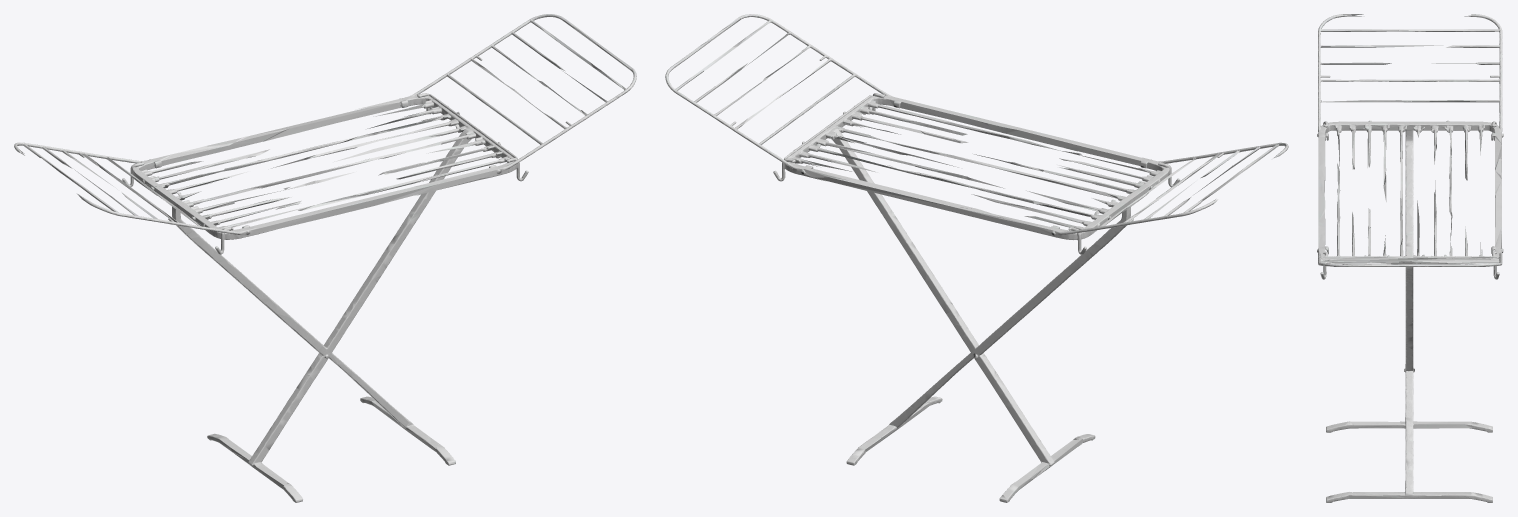
Rendered from ikea-com-us-en-p-mulig-drying-rack-indoor-outdoor-white-5022-20a934.glb.
3 renders of one model, left to right at view 1: azimuth 30°, elevation 25°; view 2: azimuth 150°, elevation 25°; view 3: azimuth 270°, elevation 25°, orthographic. The views are drawn at different scales.
Parts seen in each view (by area): view 1: Mesh_0; view 2: Mesh_0; view 3: Mesh_0.
Boxes of the visible parts, box(x1,y1,x2,y2) form: Mesh_0: box(14, 14, 636, 502); Mesh_0: box(665, 14, 1288, 502); Mesh_0: box(1317, 14, 1503, 502).
Size of the model in its own units: 1.9 by 1.14 by 0.5977.
Materials: 1 (1 with a texture image).
